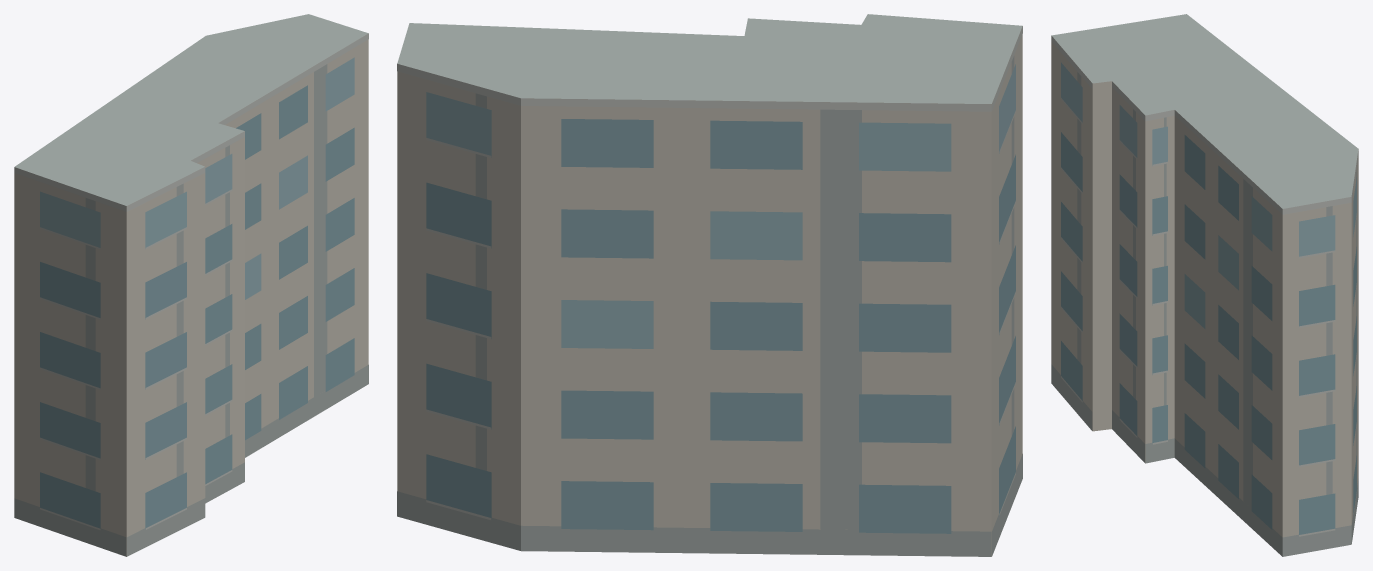
Rendered from survey-upis-32796466.glb.
3 views of the same model, side by side, from view 1: azimuth 30°, elevation 25°; view 2: azimuth 150°, elevation 25°; view 3: azimuth 270°, elevation 25° (orthographic). The views are drawn at different scales.
Parts seen in each view (by area): view 1: survey-upis-32796466.tmp; view 2: survey-upis-32796466.tmp; view 3: survey-upis-32796466.tmp.
Boxes of the visible parts, left/top/right/bottom form: survey-upis-32796466.tmp: left=14, top=14, right=368, bottom=556; survey-upis-32796466.tmp: left=397, top=14, right=1022, bottom=556; survey-upis-32796466.tmp: left=1051, top=14, right=1358, bottom=556.
Bounding box in the file's own units: 17.38 × 14.45 × 11.57.
